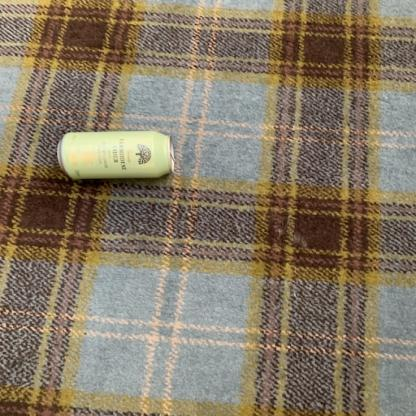trash: (53, 133, 180, 185)
